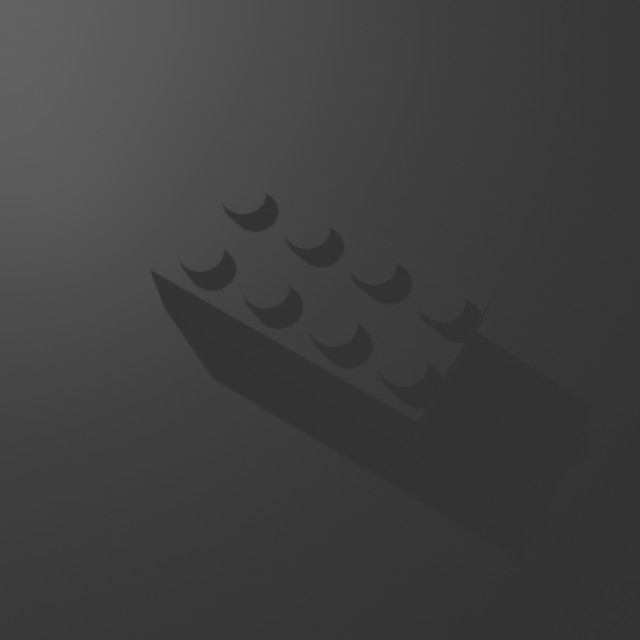lego_2x4: (147, 152, 495, 449)
